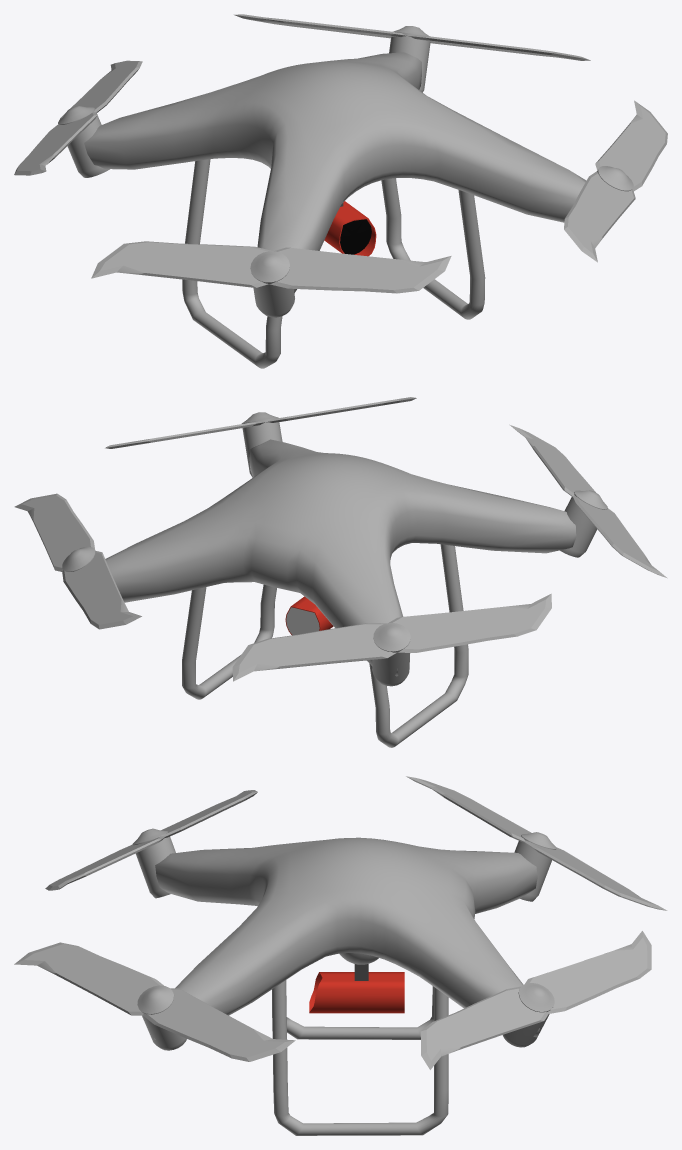
Rendered from CinemaDrone.fbx.
3 views of the same model, one above another, from view 1: azimuth 30°, elevation 25°; view 2: azimuth 150°, elevation 25°; view 3: azimuth 270°, elevation 25° (orthographic). The views are drawn at different scales.
Visible parts, largest first — view 1: DroneBody, pCube17 (×4), pCube18 (×4), pCylinder2 (×4), LeftLeg, RightLeg, polySurface21; view 2: DroneBody, pCube18 (×4), pCube17 (×4), pCylinder2 (×4), RightLeg, LeftLeg, polySurface21; view 3: DroneBody, pCube17 (×4), pCube18 (×4), pCylinder2 (×4), LeftLeg, polySurface21, RightLeg.
Part boxes in pixels (x1,y1,x2,y2): DroneBody: [84, 52, 586, 293]; pCube17 (×4): [14, 35, 635, 293]; pCube18 (×4): [58, 14, 667, 287]; pCylinder2 (×4): [58, 26, 633, 317]; LeftLeg: [381, 178, 485, 319]; RightLeg: [182, 159, 282, 368]; polySurface21: [324, 201, 376, 256]; DroneBody: [105, 439, 576, 676]; pCube18 (×4): [62, 421, 667, 681]; pCube17 (×4): [14, 397, 595, 652]; pCylinder2 (×4): [62, 412, 607, 686]; RightLeg: [369, 544, 468, 747]; LeftLeg: [182, 584, 276, 699]; polySurface21: [285, 596, 333, 635]; DroneBody: [154, 837, 539, 1039]; pCube17 (×4): [14, 776, 548, 1069]; pCube18 (×4): [143, 790, 667, 1061]; pCylinder2 (×4): [132, 828, 556, 1050]; LeftLeg: [272, 980, 448, 1135]; polySurface21: [309, 972, 404, 1013]; RightLeg: [272, 986, 434, 1039].
Size of the model in its own units: 6.46 by 2.54 by 6.39.
